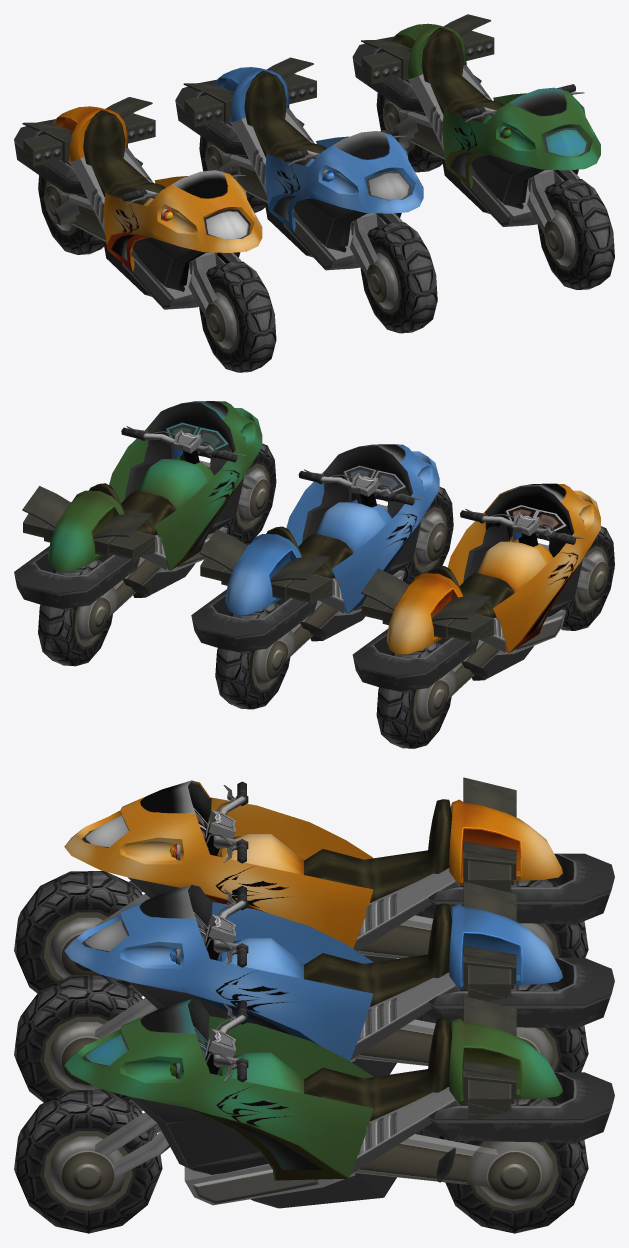
Rendered from Bike_03.fbx.
3 views of the same model, one above another, from view 1: azimuth 30°, elevation 25°; view 2: azimuth 150°, elevation 25°; view 3: azimuth 270°, elevation 25° (orthographic). The views are drawn at different scales.
Parts seen in each view (by area): view 1: Body (×3), FrontWheel (×3), Handle (×3), BackWheel (×3); view 2: Body (×3), BackWheel (×3), Handle (×3), FrontWheel (×3); view 3: Body (×3), FrontWheel (×3), Handle (×3), BackWheel (×3).
Boxes of the visible parts, bbox=[...] form: Body (×3): bbox=[14, 14, 600, 309]; FrontWheel (×3): bbox=[199, 179, 614, 372]; Handle (×3): bbox=[121, 84, 584, 349]; BackWheel (×3): bbox=[38, 79, 442, 254]; Body (×3): bbox=[14, 401, 600, 725]; BackWheel (×3): bbox=[38, 559, 451, 748]; Handle (×3): bbox=[121, 426, 608, 607]; FrontWheel (×3): bbox=[210, 443, 614, 630]; Body (×3): bbox=[64, 777, 614, 1208]; FrontWheel (×3): bbox=[14, 871, 162, 1233]; Handle (×3): bbox=[49, 781, 248, 1206]; BackWheel (×3): bbox=[444, 879, 588, 1233].
Bounding box in the file's own units: 7.14 × 2.5 × 6.09.
2 materials, 2 textured.
